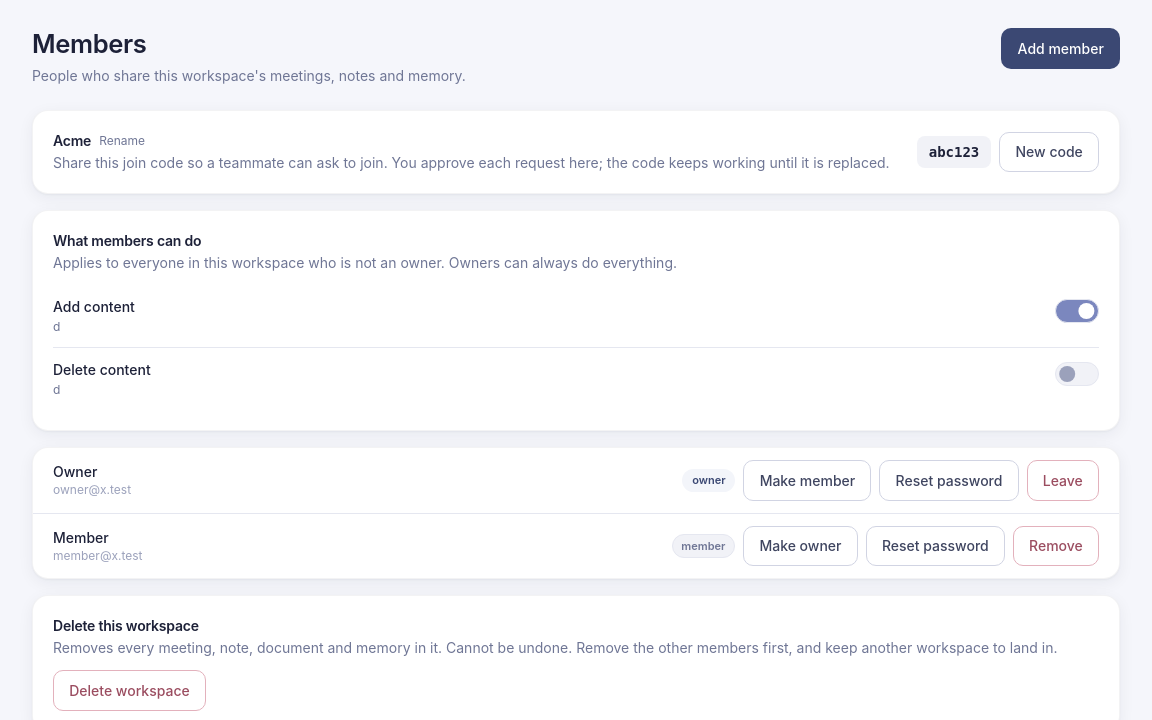
Members page workspace controls (owner) › issues a new join code in place
Expected: the text "abc123" is shown, x1=917 y1=136 x2=991 y2=168
Click the button "New code": (1049, 152) x1=999 y1=132 x2=1099 y2=172
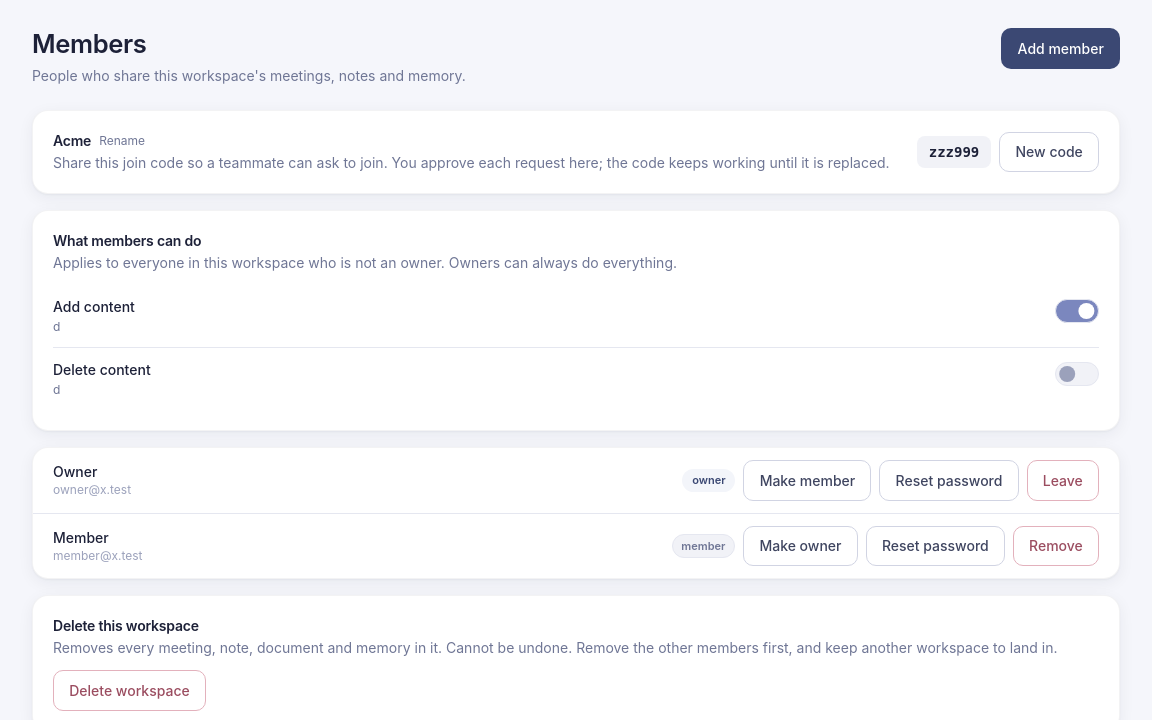
Expected: the text "zzz999" is shown, x1=917 y1=136 x2=991 y2=168
Expected: the text "abc123" is gone
